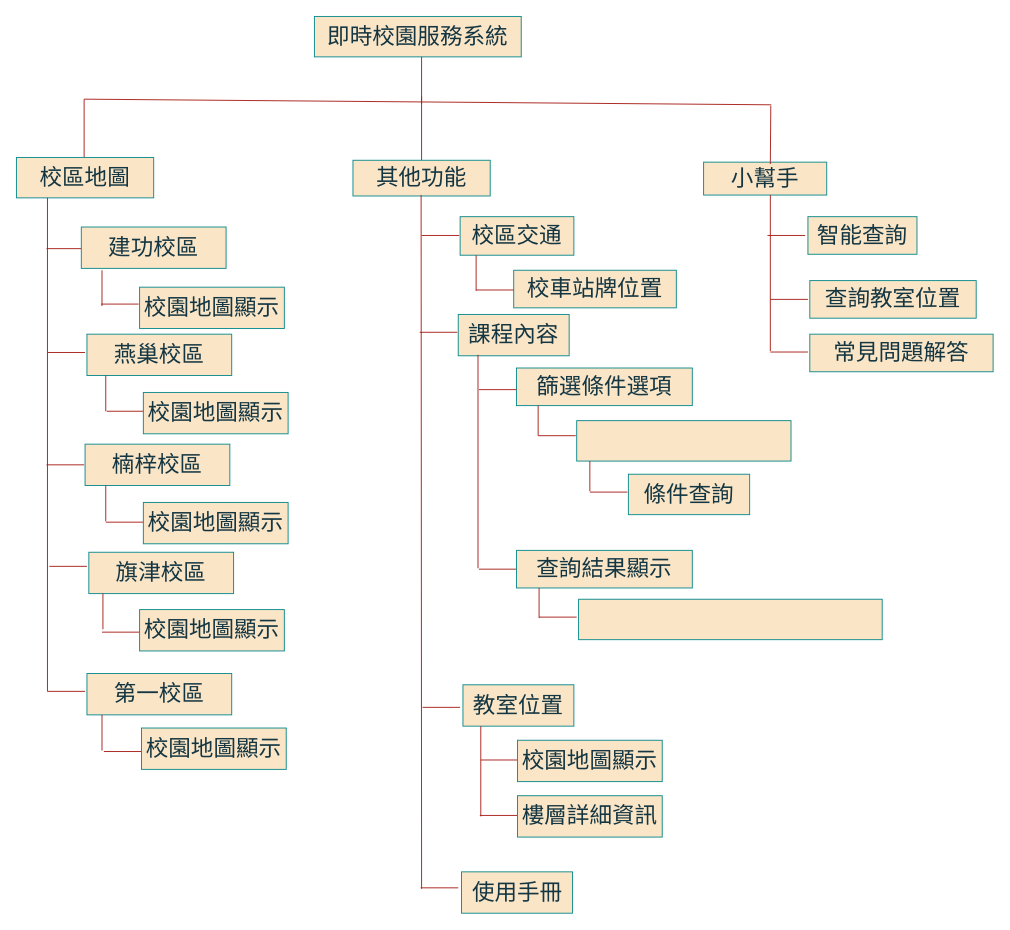
Image size: 1010x930. Some labels were removed from this diagram. Each missing label, with the centre of its shape:
"學年度、學期、學校" goes at (x=683, y=440).
"課程名稱、授課教師、時間" goes at (x=730, y=619).
